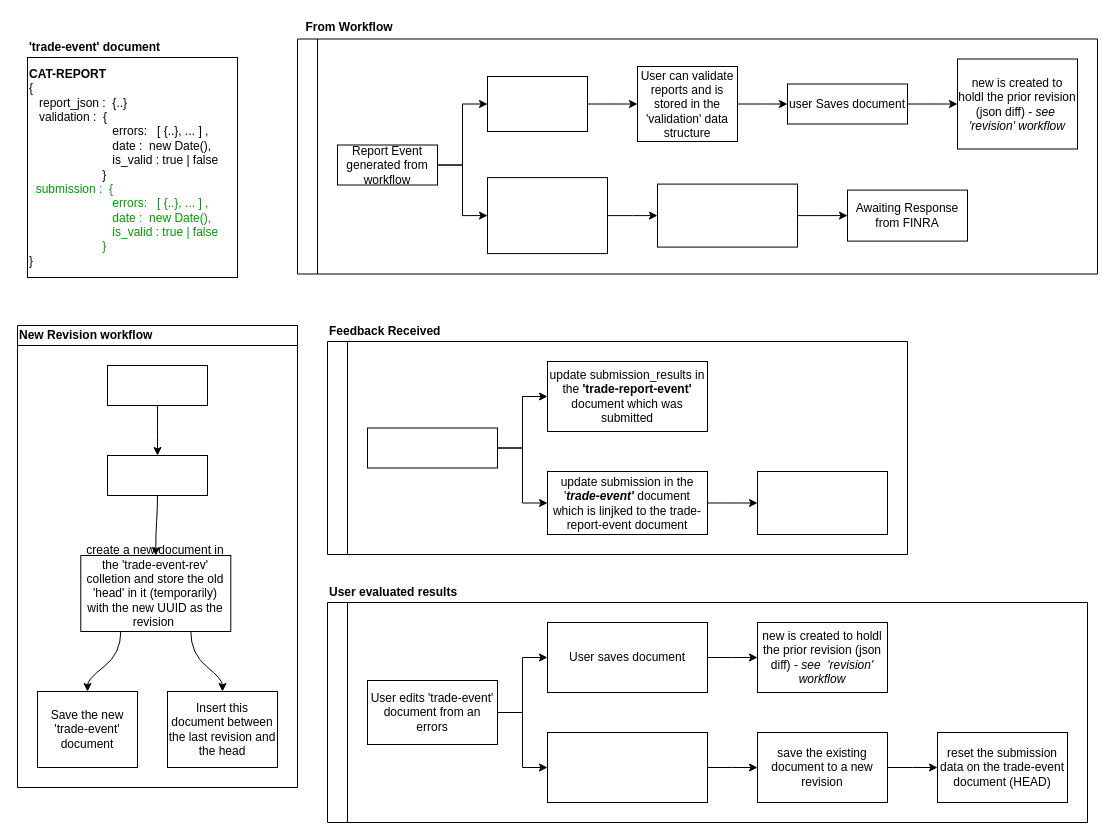
Image size: 1115x840. Some labels were removed from this diagram. The centre of each missing label's shape, as x and y in pixels:
"At EOD or selected by user, trade report is 'packaged' and sent to FINRA" belongs at [727,215].
"Create a new document in the 'trade-report-events' collection" belongs at [547,215].
"Create WFE in the 'trade-events' collection" belongs at [537,104].
"Feedback received from FINRA" belongs at [432,447].
"generate new UUID (revision id)" belongs at [157,475].
"Update the trade-event document with the submission results" belongs at [822,502].
"User 'clicks' saves document" belongs at [157,385].
"User adds WFE to a new ' 'trade-report' to be submitted" belongs at [627,767].
